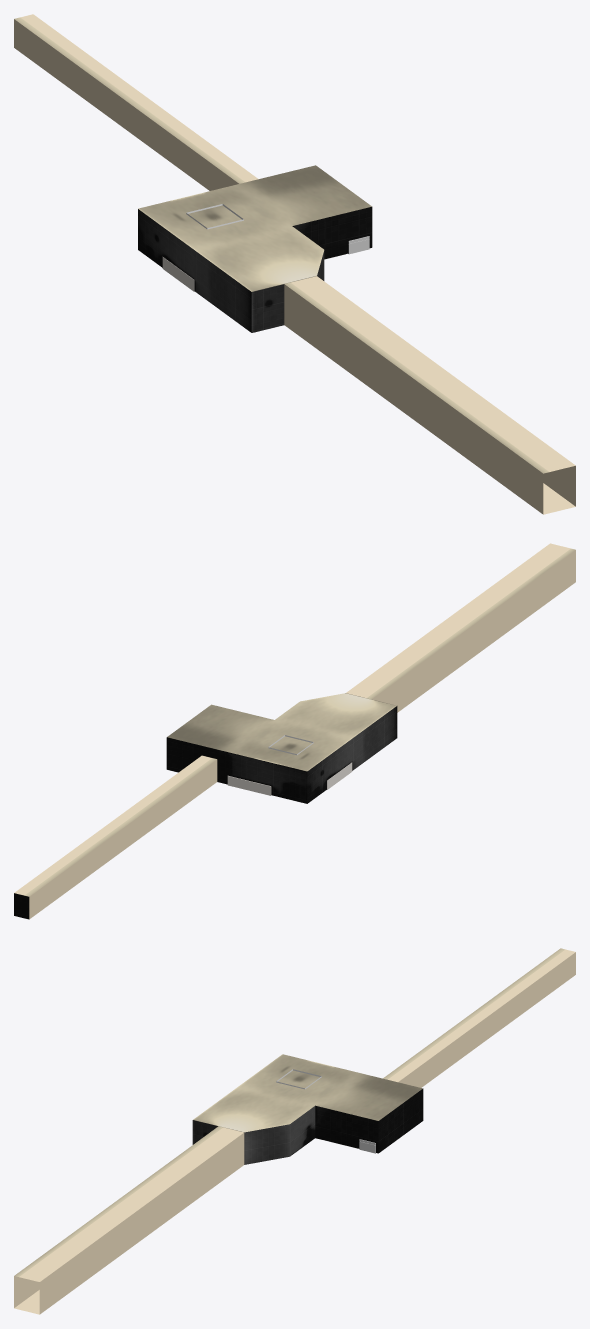
The model's file is main-kitchen.glb.
3 renders of one model, top to bottom at view 1: azimuth 30°, elevation 25°; view 2: azimuth 150°, elevation 25°; view 3: azimuth 330°, elevation 25°, orthographic. The views are drawn at different scales.
Visible parts, largest first — view 1: room; view 2: room; view 3: room.
Part boxes in pixels (bbox=[...]): room: bbox=[14, 14, 575, 514]; room: bbox=[14, 543, 575, 919]; room: bbox=[14, 948, 575, 1314].
Bounding box in the file's own units: 18.14 × 4.2 × 108.
12 materials, 2 textured.
